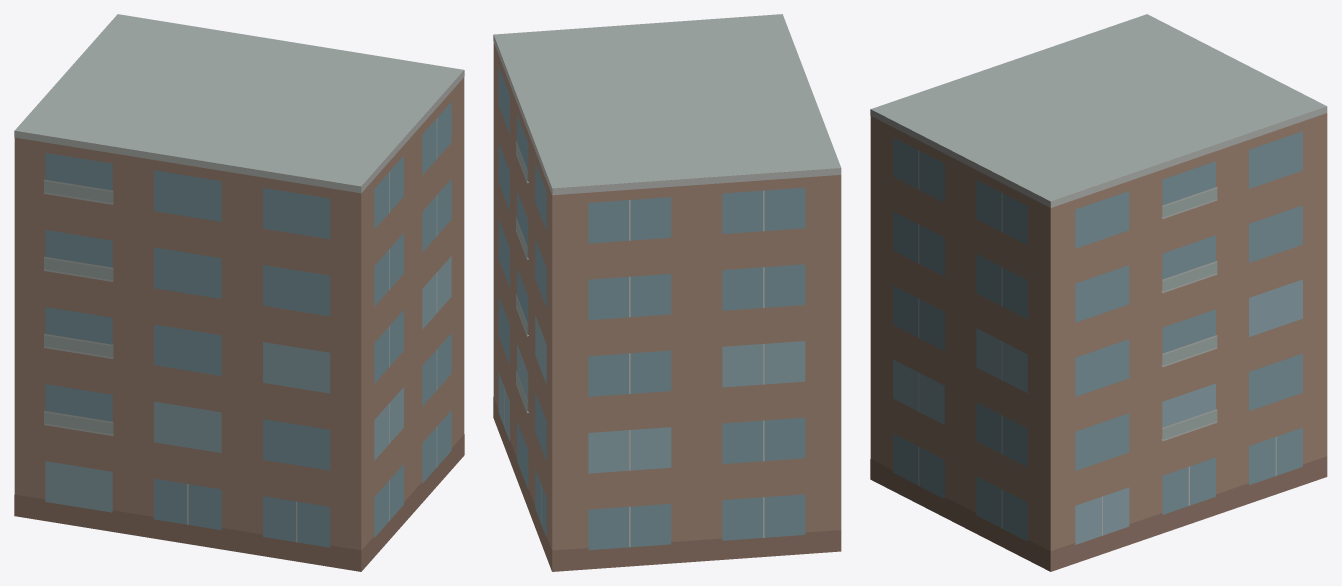
File: survey-upis-32844861.glb
3 renders of one model, left to right at view 1: azimuth 30°, elevation 25°; view 2: azimuth 150°, elevation 25°; view 3: azimuth 270°, elevation 25°, orthographic. The views are drawn at different scales.
Parts seen in each view (by area): view 1: survey-upis-32844861.tmp; view 2: survey-upis-32844861.tmp; view 3: survey-upis-32844861.tmp.
Part boxes in pixels (x1,y1,x2,y2): survey-upis-32844861.tmp: (14,14,464,571); survey-upis-32844861.tmp: (493,14,841,571); survey-upis-32844861.tmp: (870,14,1327,571).
Bounding box in the file's own units: 14.99 × 13.8 × 15.43.
